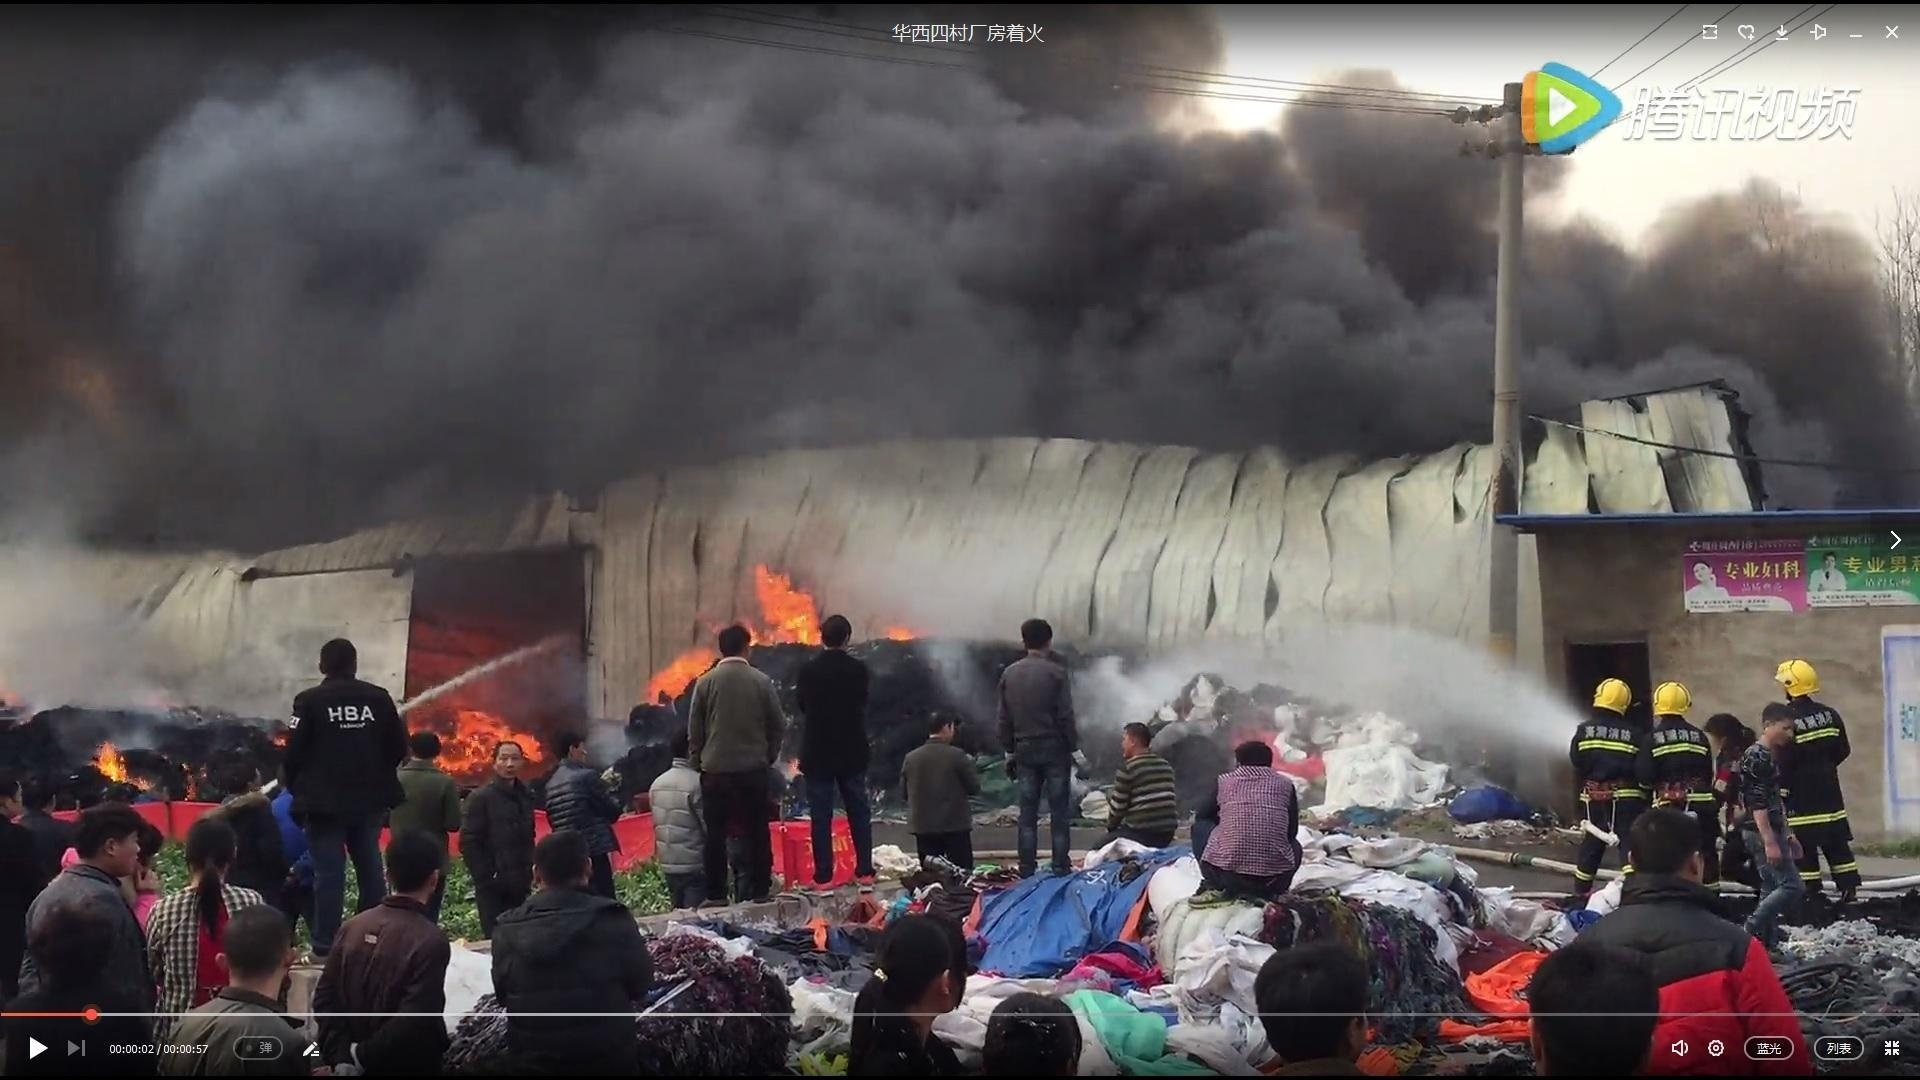fire: (684, 563, 829, 675), (426, 704, 541, 770), (746, 563, 825, 647)
